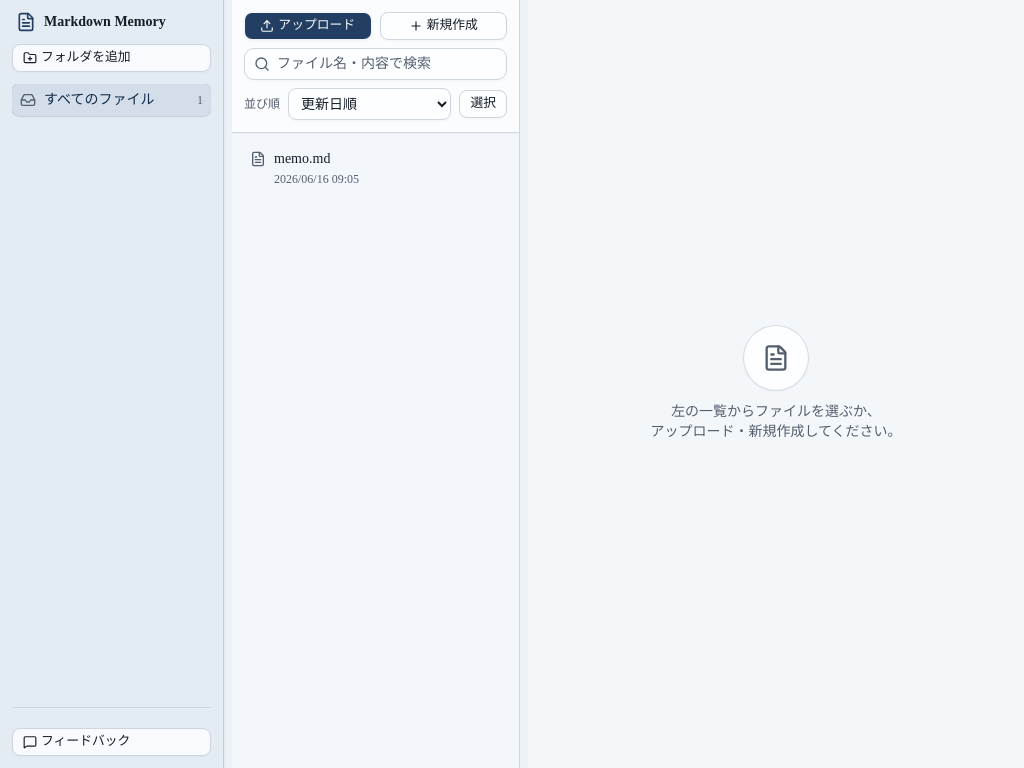
Scenario: MarkdownWorkspace › デモの一括共有はログイン後利用の案内を表示する
This screenshot has width=1024, height=768.
Click the button "選択".
click(483, 104)  # box x1=459 y1=90 x2=507 y2=118
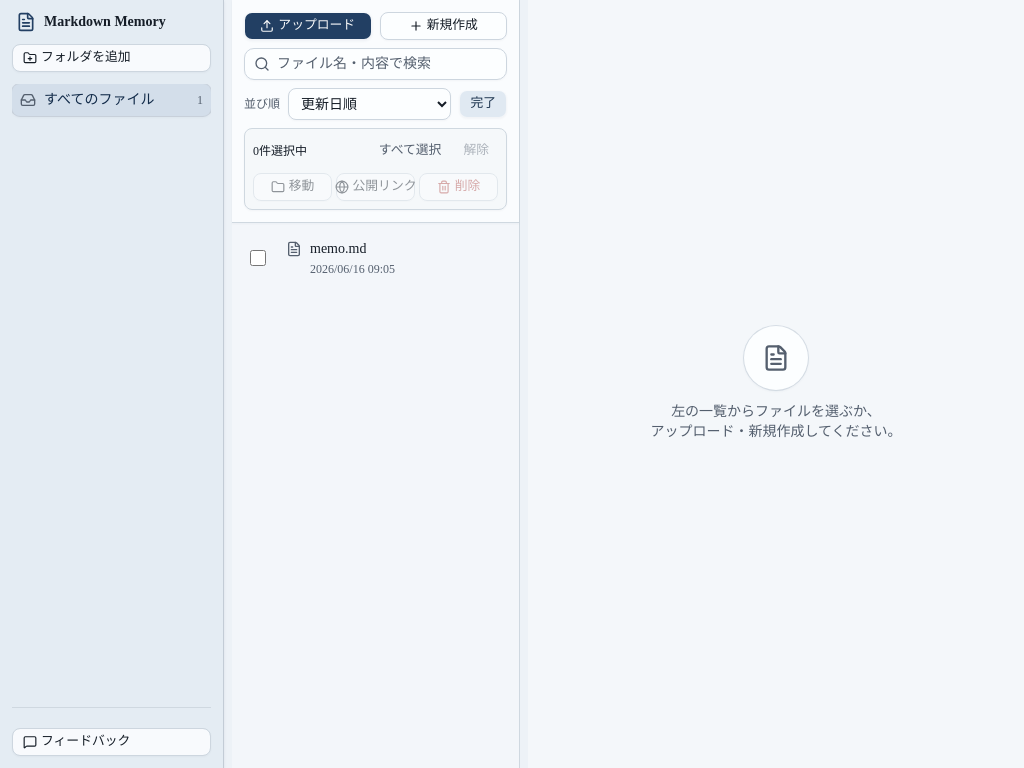
Click the checkbox named "memo.md を選択".
click(258, 258)  # box x1=250 y1=250 x2=266 y2=266
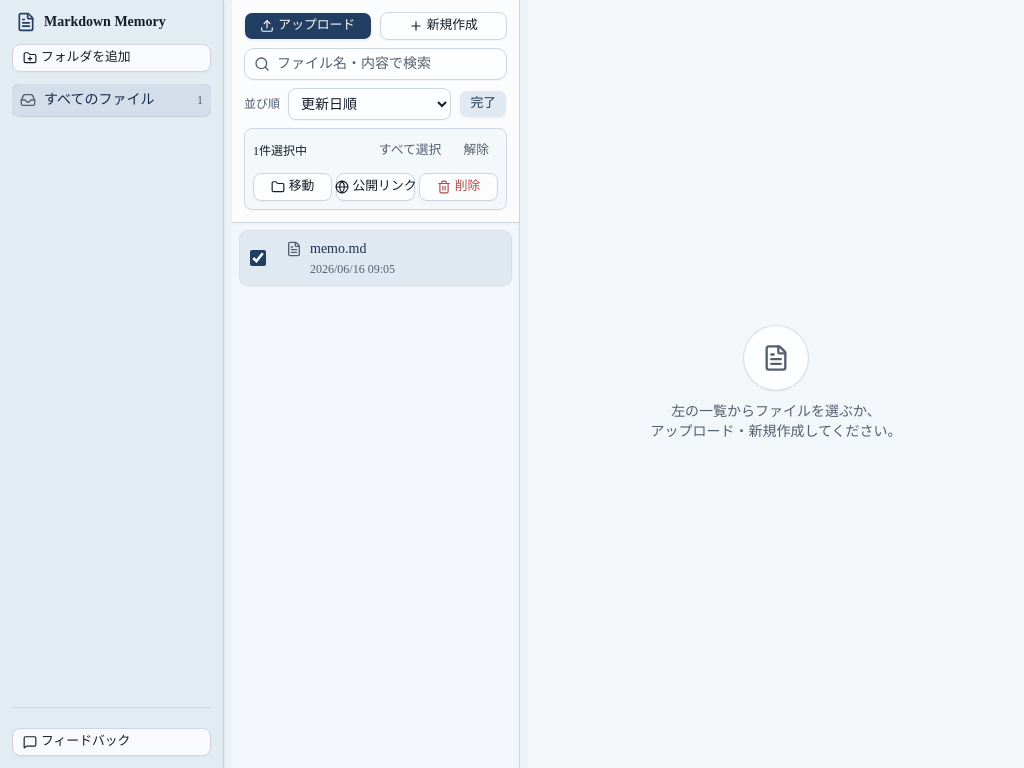
Click the button with aria-label "公開リンク作成".
click(376, 187)  # box x1=336 y1=173 x2=415 y2=201
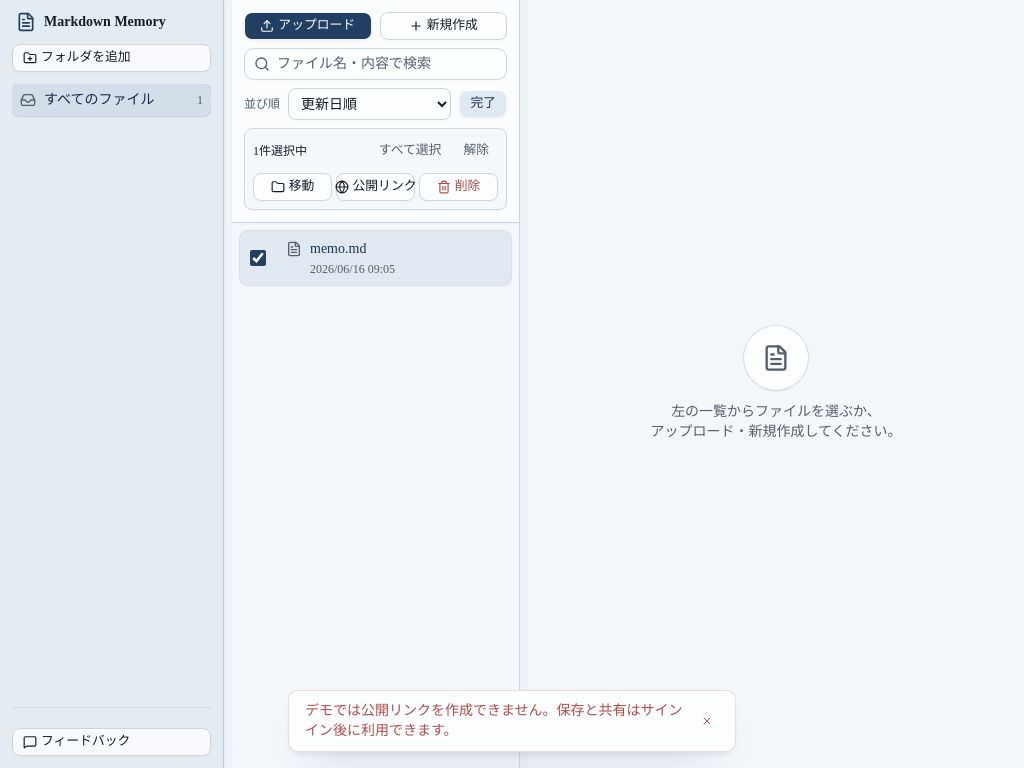
Expected: the message shows "デモでは公開リンクを作成できません。", x1=305 y1=703 x2=683 y2=738
